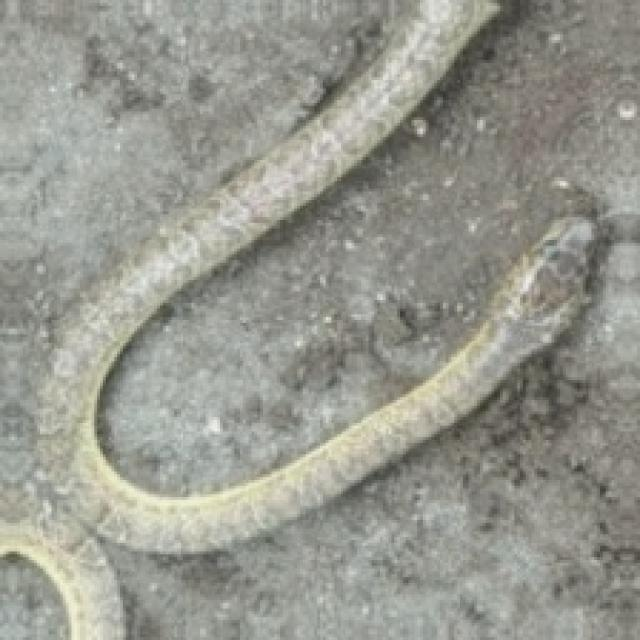mullers wolf snake: (103, 0, 637, 637), (0, 20, 137, 140)
